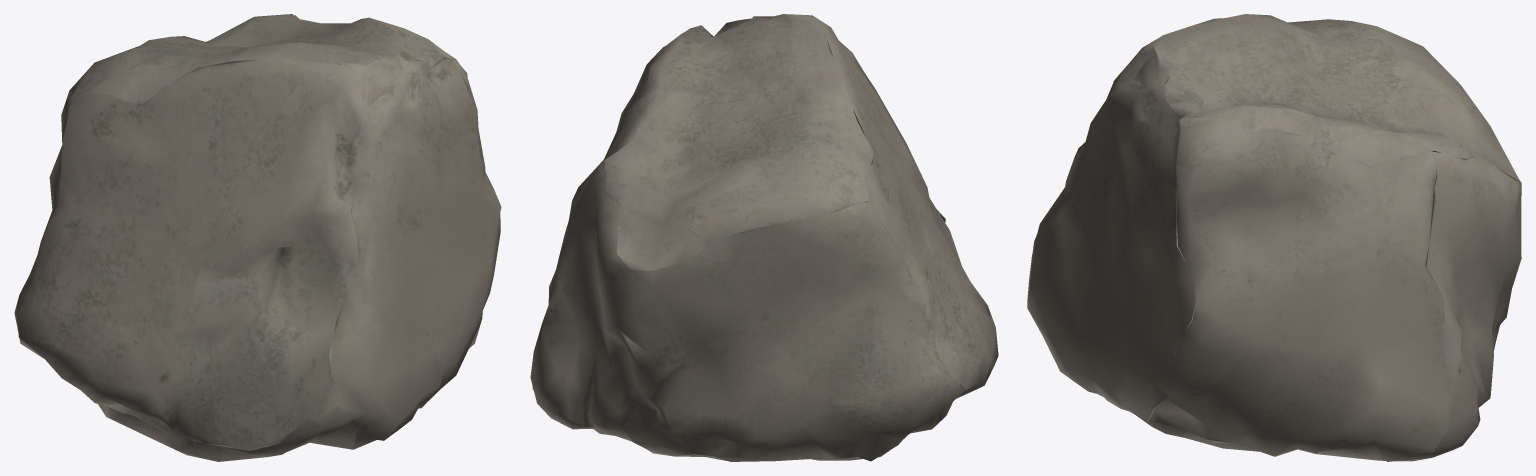
Rendered from moonrock_a.glb.
The picture shows the model from 3 angles, left to right: view 1: azimuth 30°, elevation 25°; view 2: azimuth 150°, elevation 25°; view 3: azimuth 270°, elevation 25°; orthographic projection. The views are drawn at different scales.
Parts seen in each view (by area): view 1: moonrock_a_v0_lod0; view 2: moonrock_a_v0_lod0; view 3: moonrock_a_v0_lod0.
Boxes of the visible parts, bbox=[...] form: moonrock_a_v0_lod0: bbox=[14, 14, 501, 461]; moonrock_a_v0_lod0: bbox=[530, 14, 998, 461]; moonrock_a_v0_lod0: bbox=[1027, 14, 1521, 461].
Size of what is drawn, in the model's own units: 0.2472 by 0.2023 by 0.251.
Materials: 1 (1 with a texture image).
